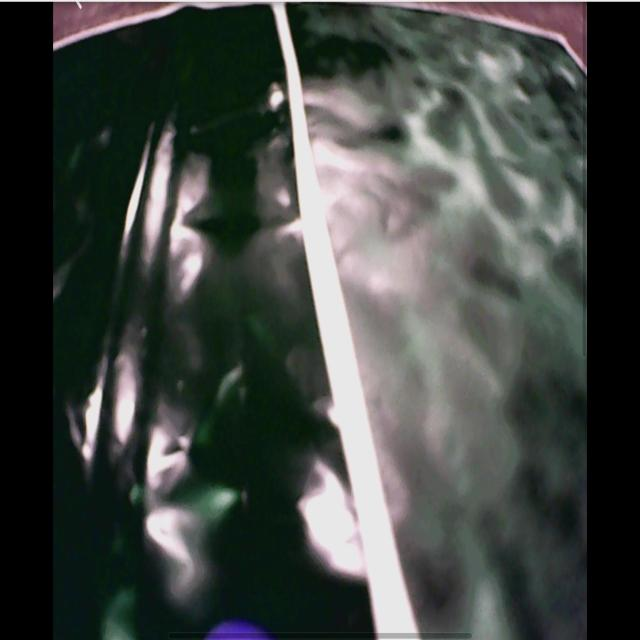ball: (206, 622, 270, 640)
